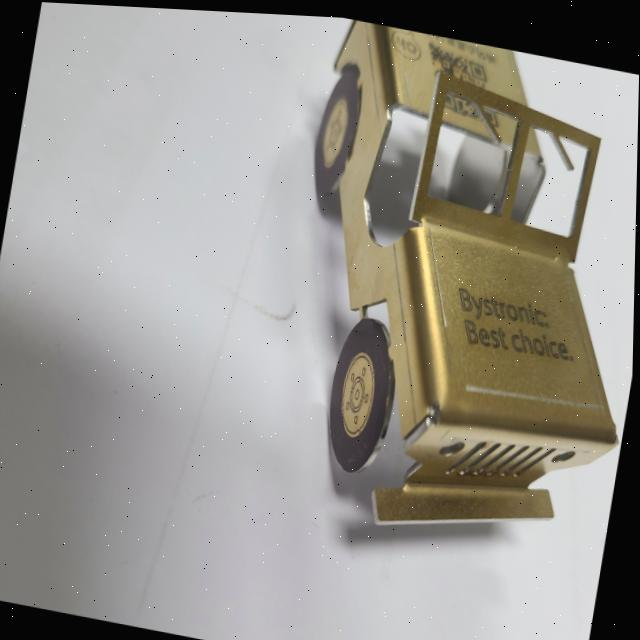tire: (321, 306, 403, 475), (310, 60, 369, 191)
